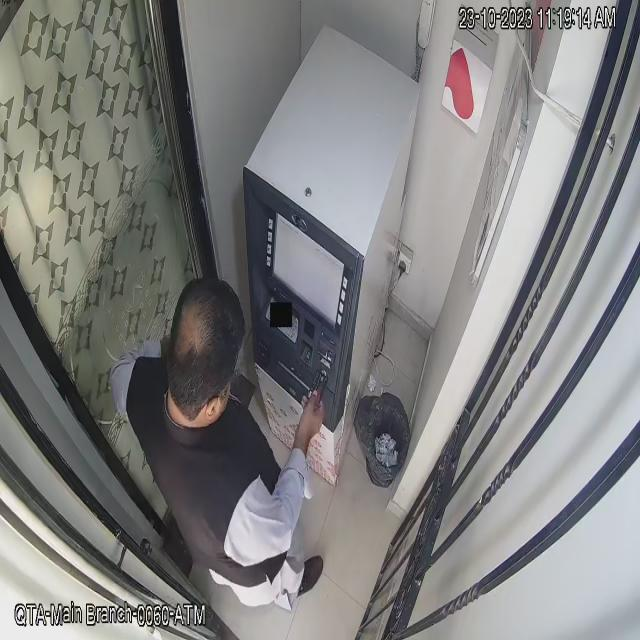atm-card: (305, 364, 332, 408)
